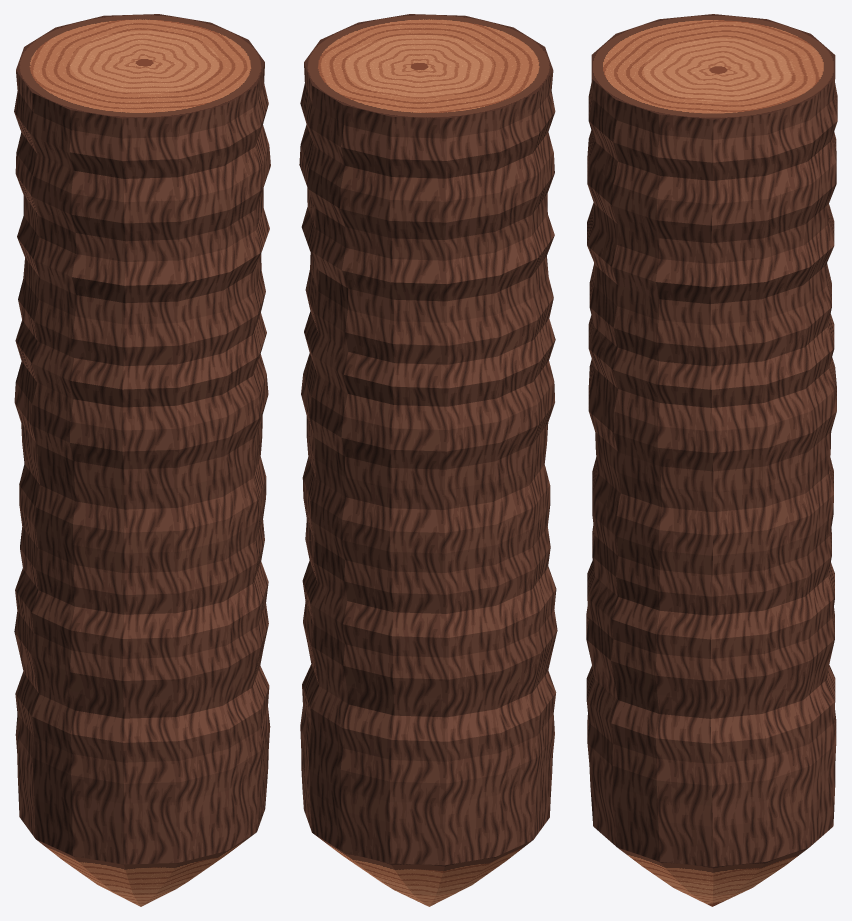
File: environment_redwood5_log_v2.fbx
3 views of the same model, side by side, from view 1: azimuth 30°, elevation 25°; view 2: azimuth 150°, elevation 25°; view 3: azimuth 270°, elevation 25° (orthographic).
Parts seen in each view (by area): view 1: environment_redwood5_log_v2; view 2: environment_redwood5_log_v2; view 3: environment_redwood5_log_v2.
Boxes of the visible parts, box(x1,y1,x2,y2) form: environment_redwood5_log_v2: box(14, 14, 270, 906); environment_redwood5_log_v2: box(299, 14, 557, 906); environment_redwood5_log_v2: box(586, 14, 837, 906).
Size of the model in its own units: 557 by 2000 by 543.
